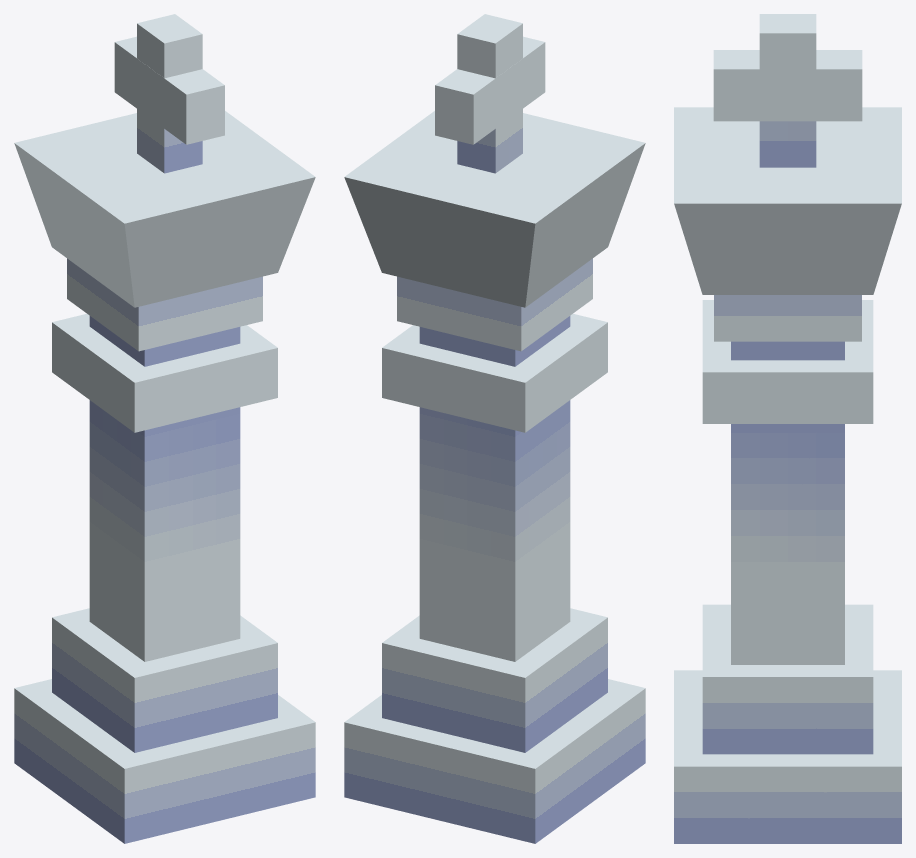
The model's file is King White.gltf.
3 views of the same model, side by side, from view 1: azimuth 30°, elevation 25°; view 2: azimuth 150°, elevation 25°; view 3: azimuth 270°, elevation 25° (orthographic). The views are drawn at different scales.
Parts seen in each view (by area): view 1: cube (×8); view 2: cube (×8); view 3: cube (×8).
Part boxes in pixels (bbox=[...]): cube (×8): bbox=[14, 14, 315, 843]; cube (×8): bbox=[344, 14, 645, 843]; cube (×8): bbox=[674, 14, 901, 843].
Bounding box in the file's own units: 0.125 × 0.4687 × 0.125.
Materials: 1 (1 with a texture image).
